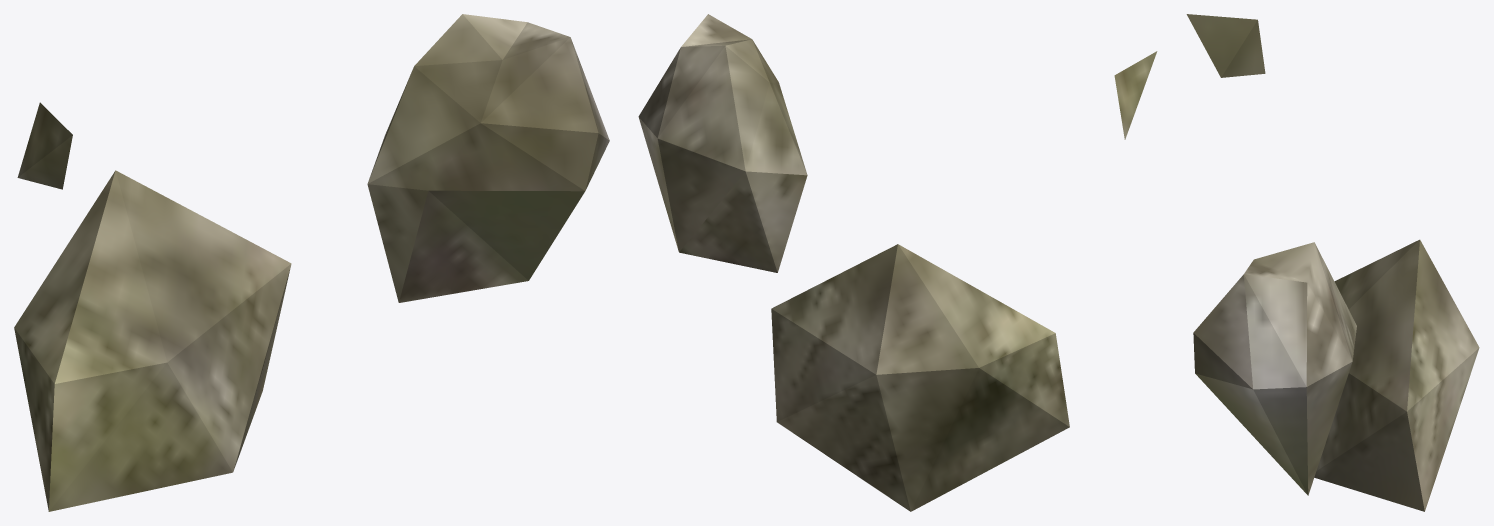
The picture shows the model from 3 angles, left to right: view 1: azimuth 30°, elevation 25°; view 2: azimuth 150°, elevation 25°; view 3: azimuth 270°, elevation 25°; orthographic projection. The views are drawn at different scales.
Size of the model in its own units: 0.7566 by 0.632 by 0.3979.
1 material, 1 textured.
